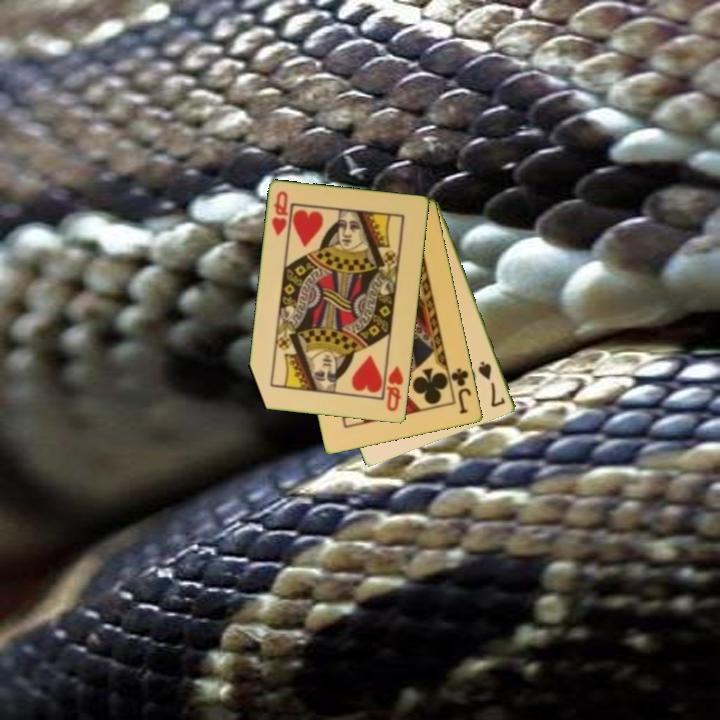7s: (475, 358, 509, 410)
Jc: (448, 365, 475, 417)
Qh: (383, 362, 407, 414), (268, 188, 291, 239)
